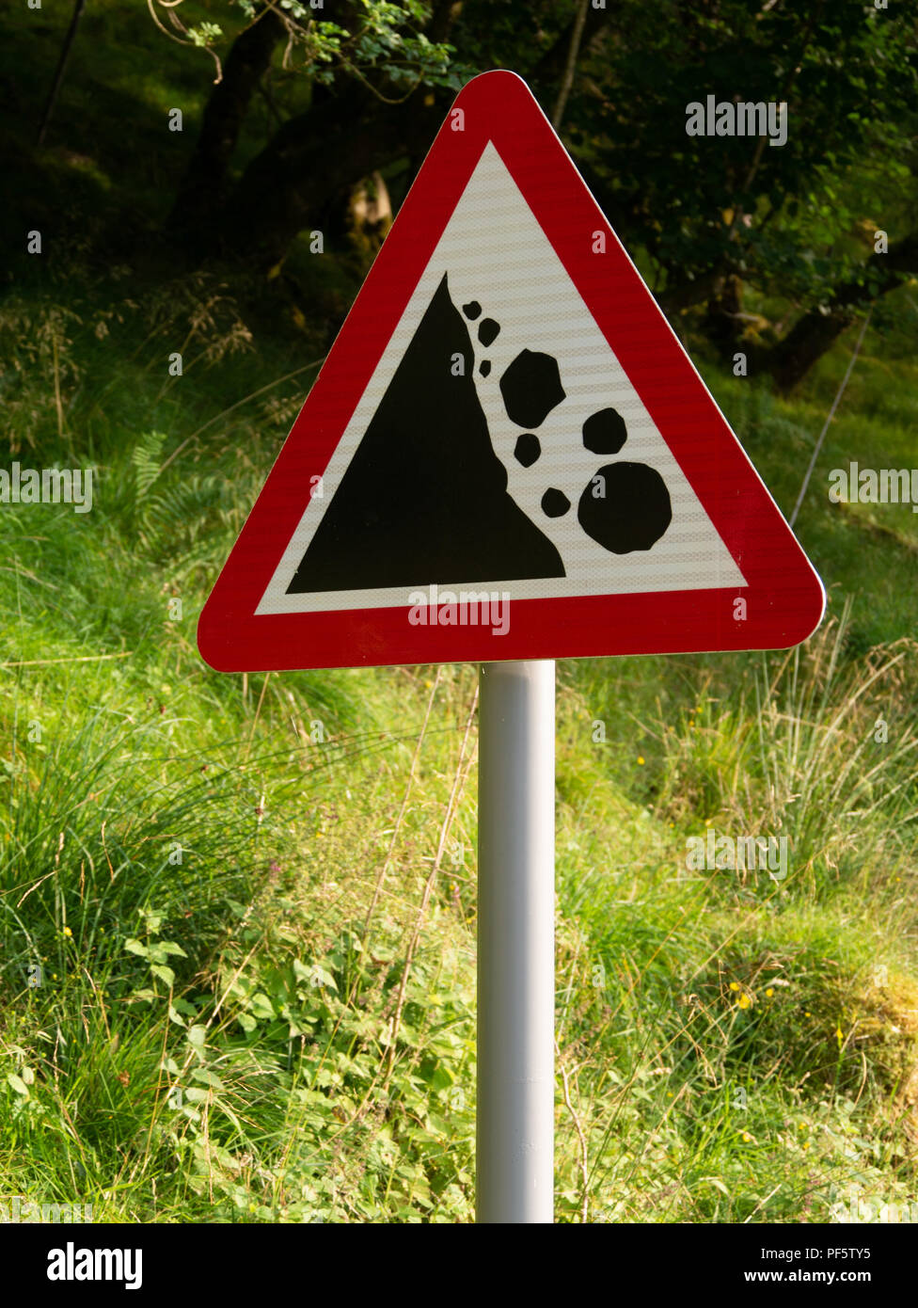FallenSign: (178, 69, 836, 674)
